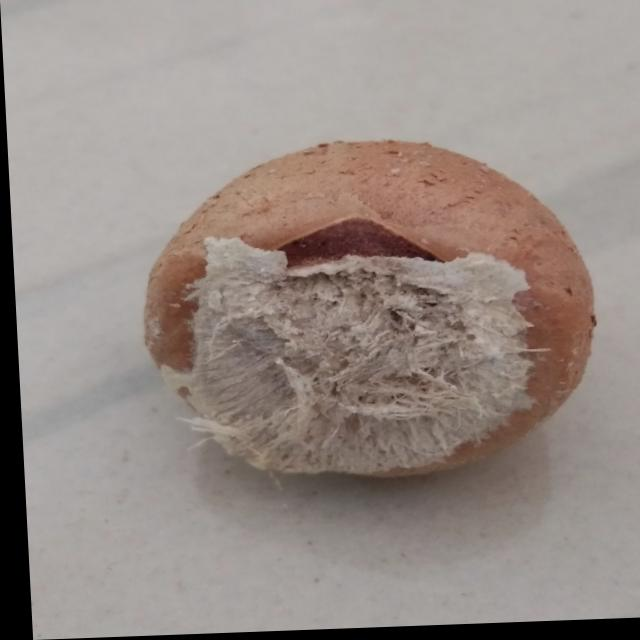good: (114, 110, 609, 510)
